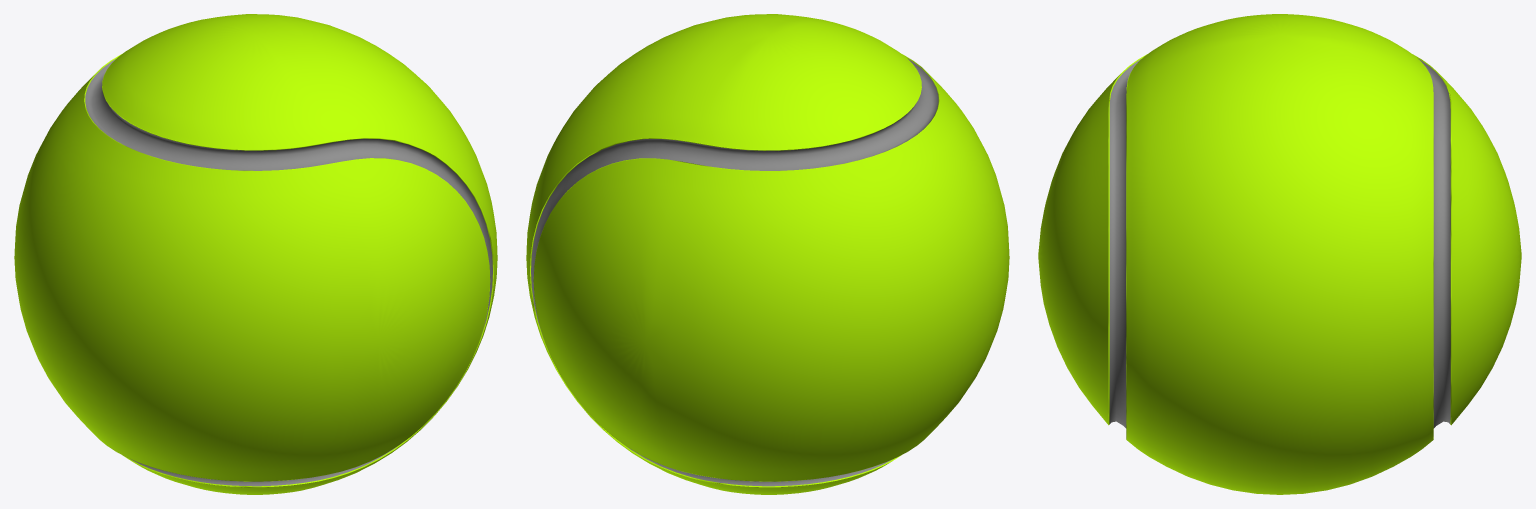
File: TennisBall.fbx
3 renders of one model, left to right at view 1: azimuth 30°, elevation 25°; view 2: azimuth 150°, elevation 25°; view 3: azimuth 270°, elevation 25°, orthographic.
Visible parts, largest first — view 1: Sphere.001; view 2: Sphere.001; view 3: Sphere.001.
Part boxes in pixels (x1,y1,x2,y2): Sphere.001: [14, 14, 497, 494]; Sphere.001: [526, 14, 1009, 494]; Sphere.001: [1038, 14, 1521, 494].
Bounding box in the file's own units: 6.54 × 6.54 × 6.54.
